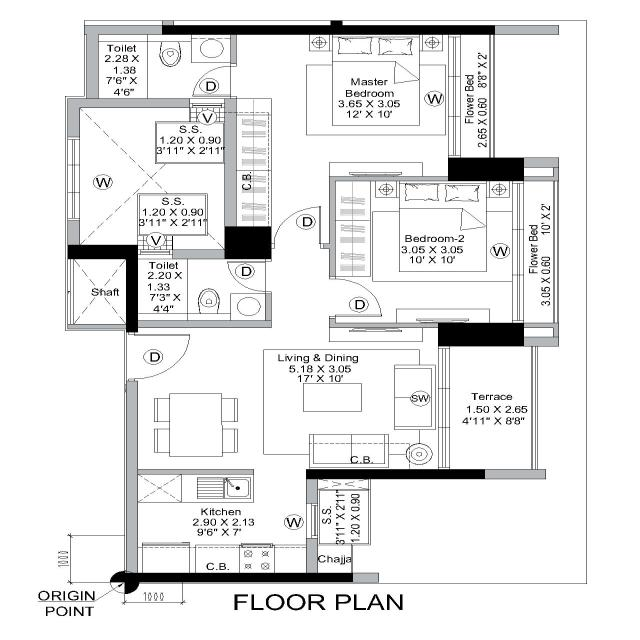Column: (160, 24, 497, 36), (122, 572, 354, 584), (305, 468, 487, 481), (437, 322, 525, 348), (446, 157, 526, 182), (224, 226, 272, 260), (124, 258, 140, 334), (67, 244, 139, 260)
Door: (125, 331, 139, 382), (328, 276, 336, 319), (270, 243, 324, 249), (264, 258, 272, 295), (230, 63, 238, 99)
Ventilator: (188, 98, 226, 109), (136, 249, 174, 260)
Window: (436, 344, 452, 471), (511, 180, 525, 324), (446, 33, 462, 159), (66, 136, 82, 222), (305, 503, 321, 539)
